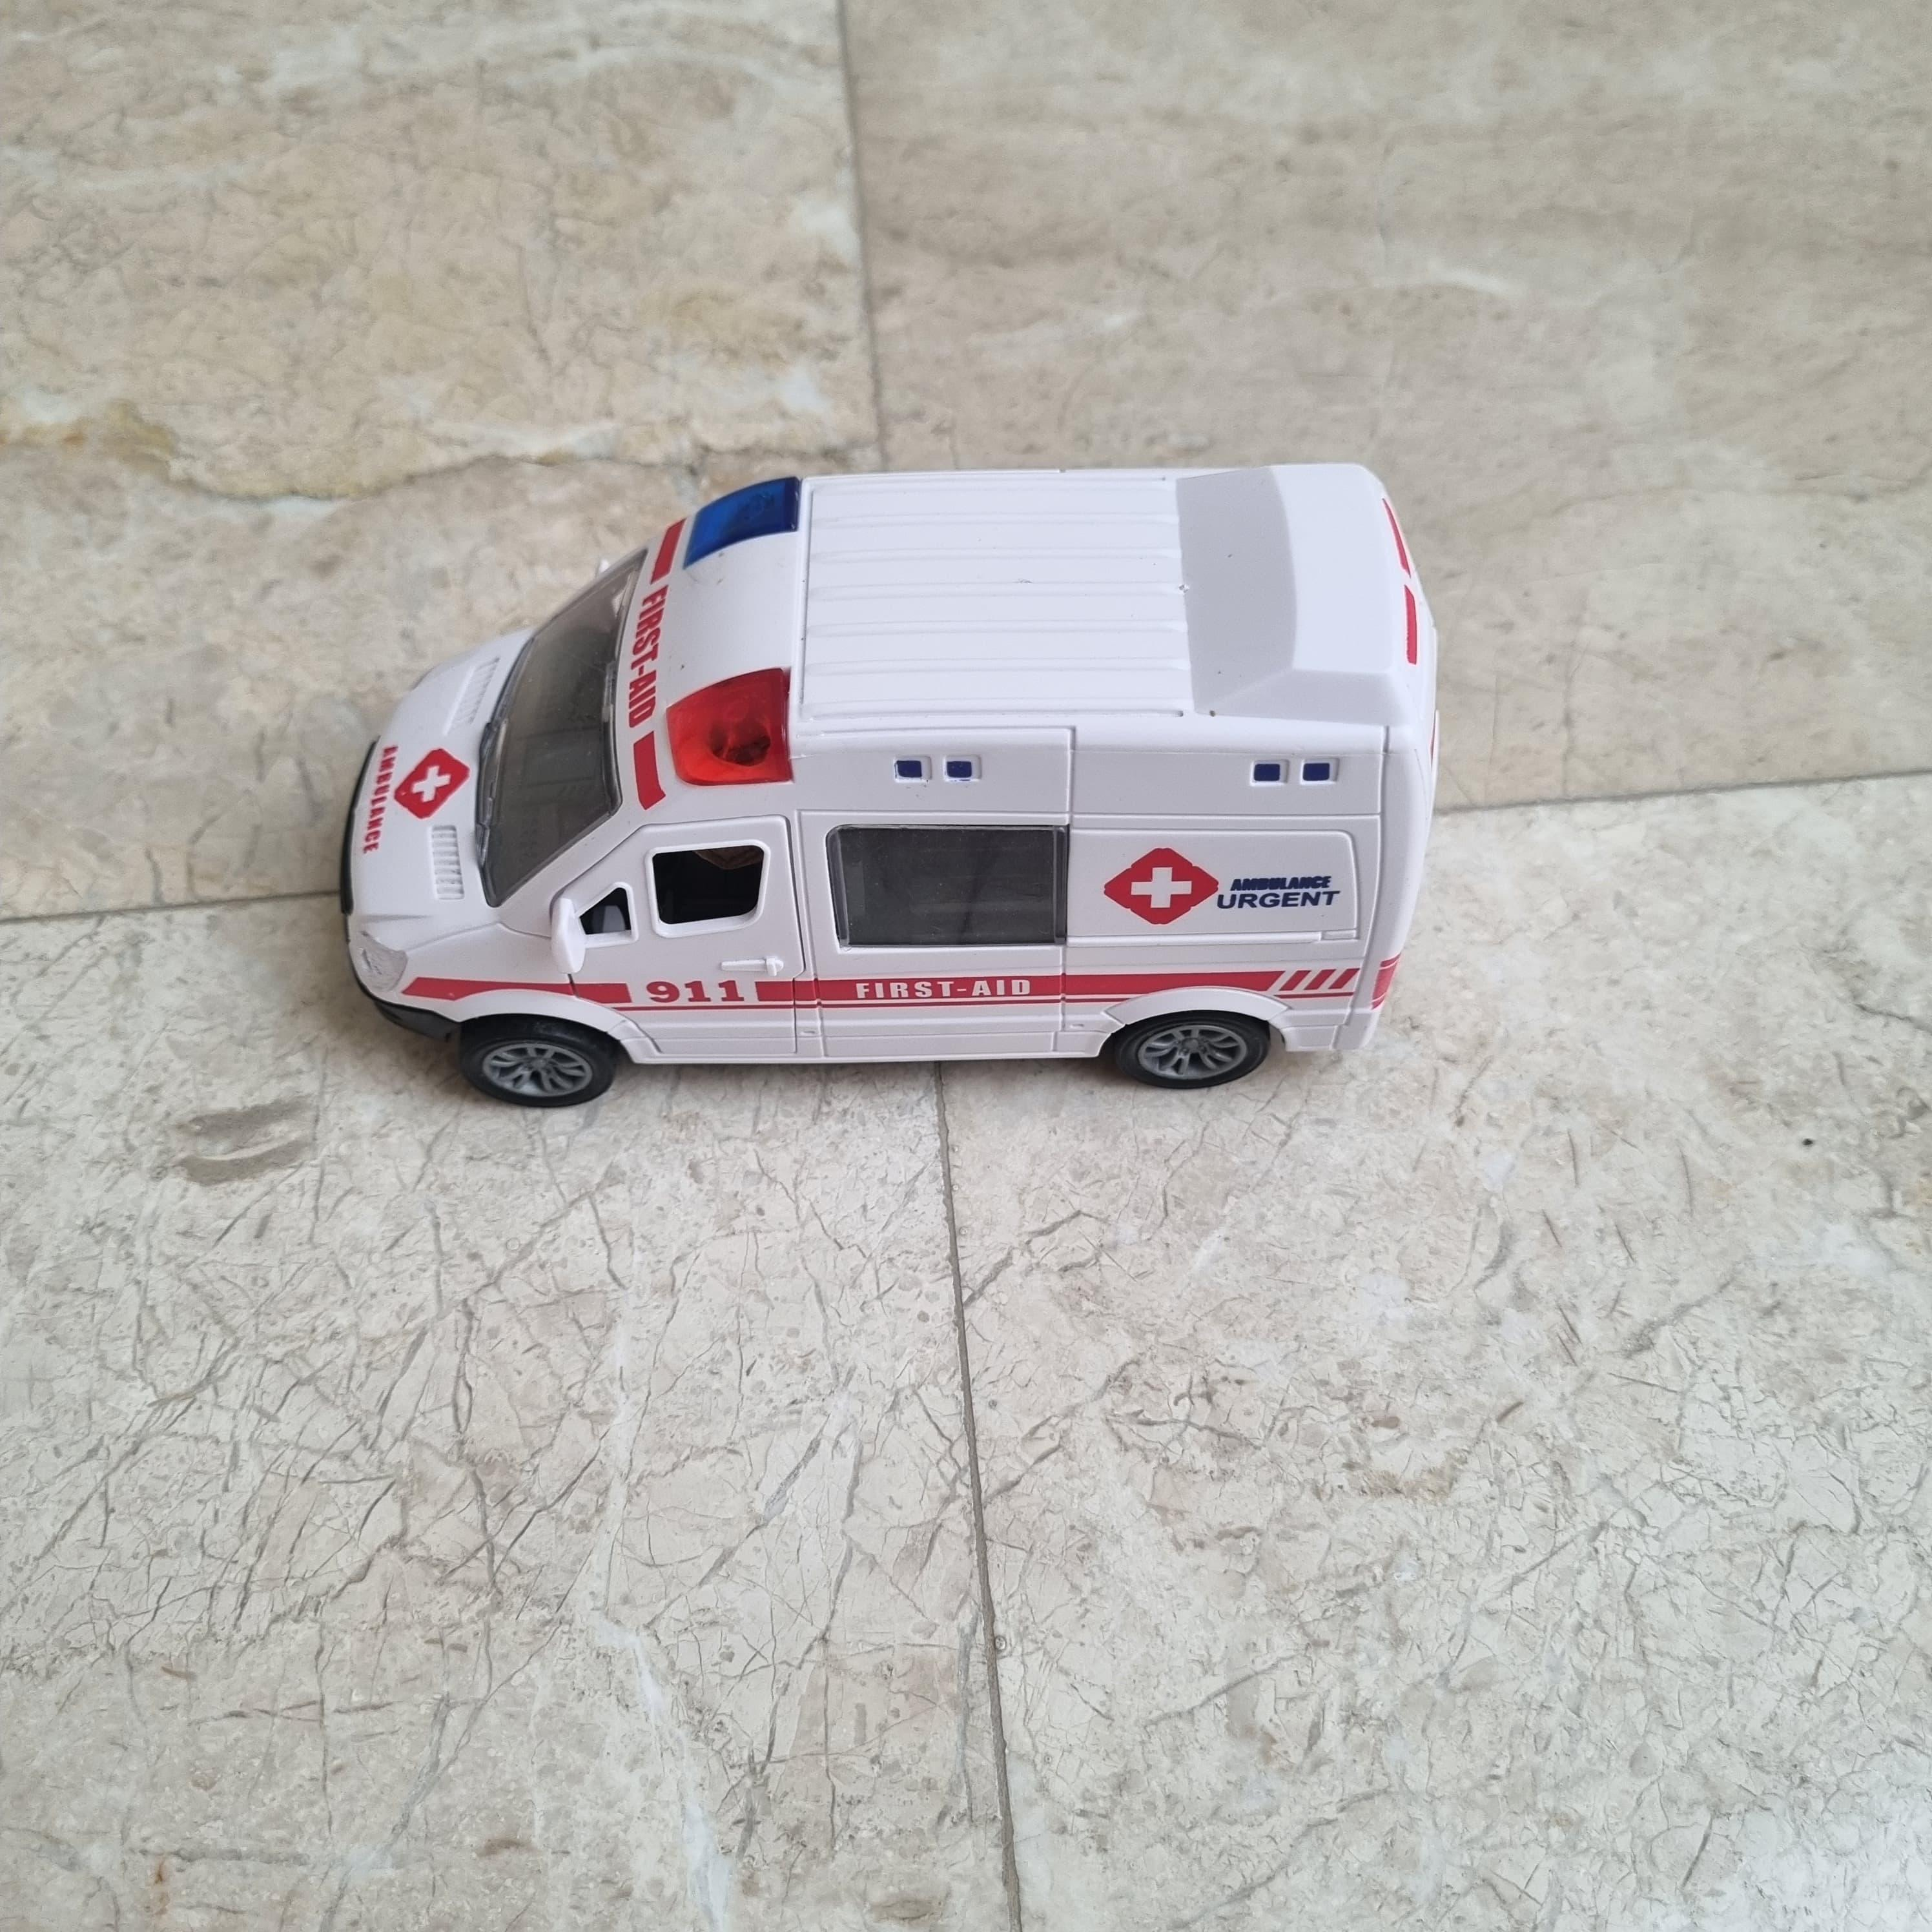ambulance_off: (343, 465, 1433, 1100)
